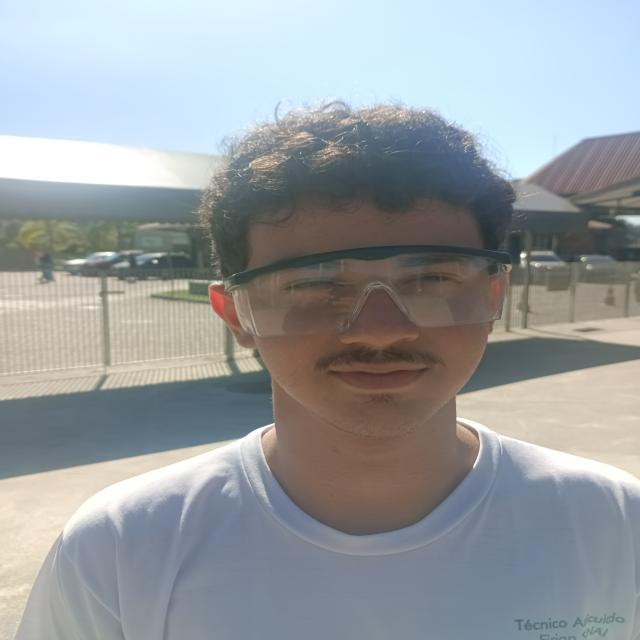oculos-epi: (224, 245, 510, 337)
